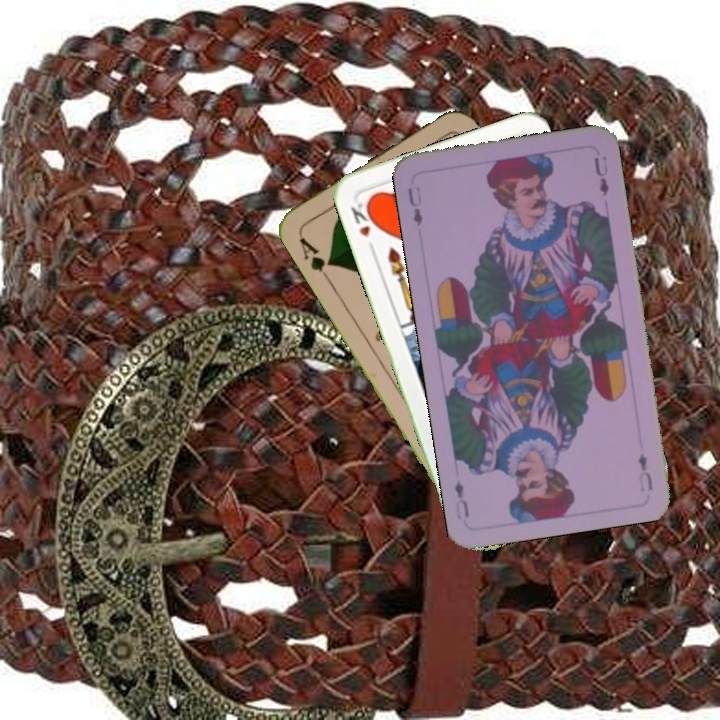EU: (403, 182, 426, 229), (634, 449, 655, 494)
GA: (295, 231, 336, 284)
HK: (347, 198, 379, 240)
